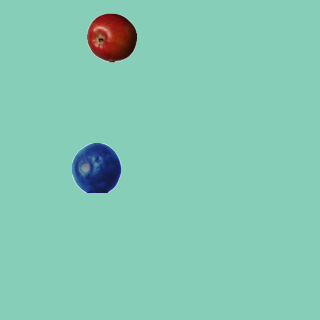Apple Braeburn: (86, 12, 136, 62)
Huckleberry: (71, 142, 121, 192)
